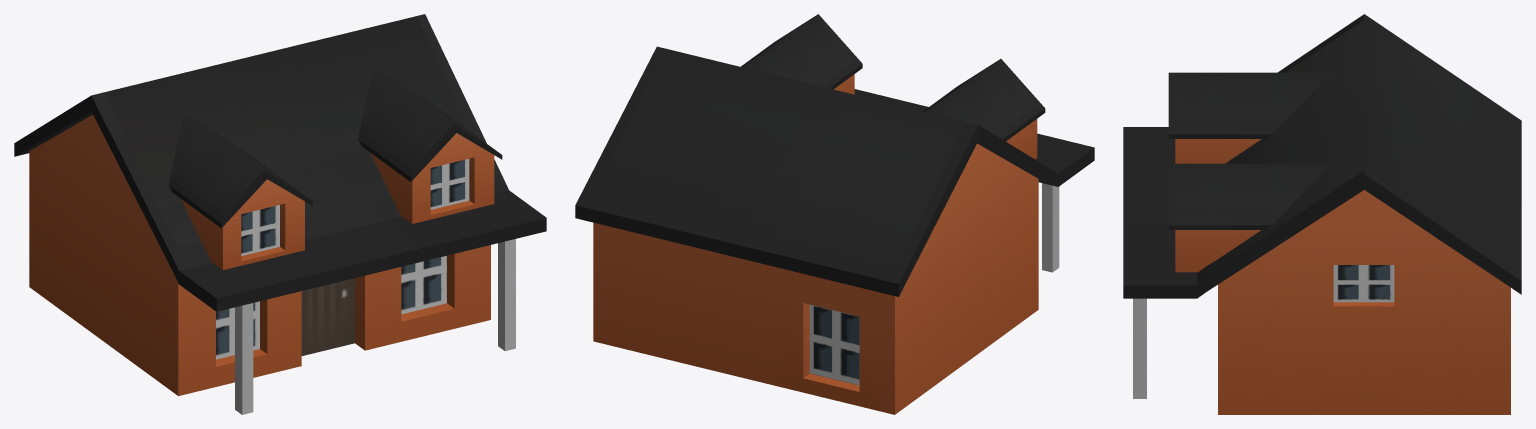
File: House_basic.FBX
3 views of the same model, side by side, from view 1: azimuth 30°, elevation 25°; view 2: azimuth 150°, elevation 25°; view 3: azimuth 270°, elevation 25° (orthographic). The views are drawn at different scales.
Parts seen in each view (by area): view 1: Box007; view 2: Box007; view 3: Box007.
Part boxes in pixels (<box>): Box007: <box>14,14,546,414</box>; Box007: <box>575,14,1094,414</box>; Box007: <box>1123,14,1521,414</box>.
Bounding box in the file's own units: 4.78 × 3.36 × 4.96.
